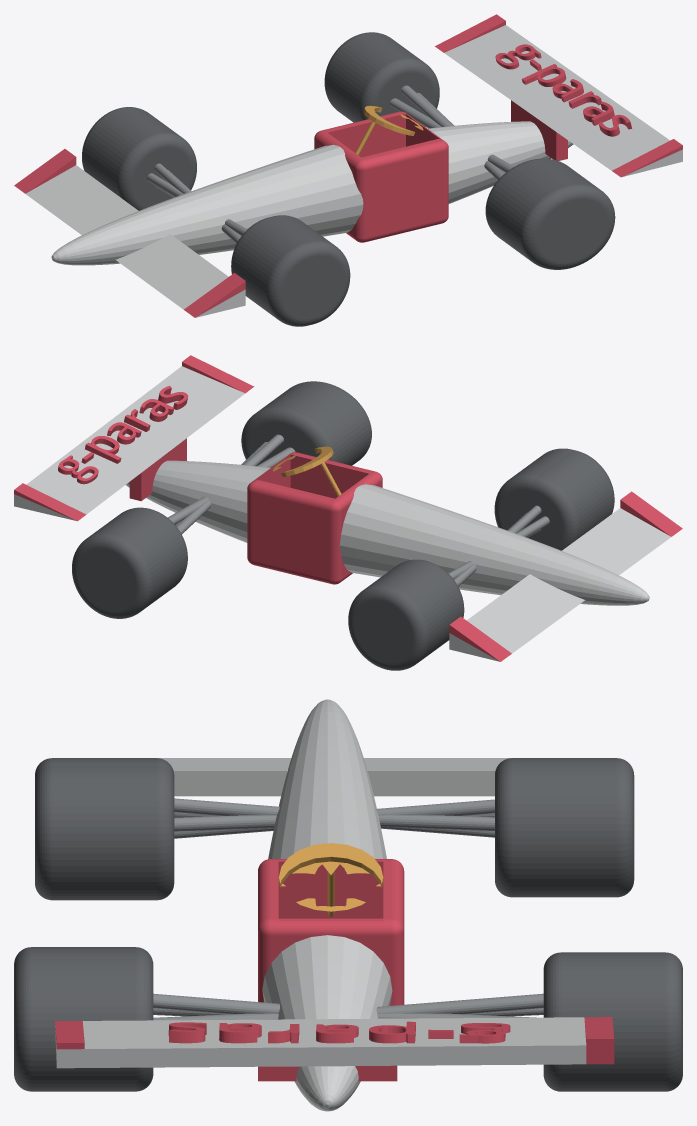
3 views of the same model, one above another, from view 1: azimuth 30°, elevation 25°; view 2: azimuth 150°, elevation 25°; view 3: azimuth 270°, elevation 25° (orthographic). The views are drawn at different scales.
Visible parts, largest first — view 1: Mesh_Mesh_head_geo.001_lambert2SG.001; view 2: Mesh_Mesh_head_geo.001_lambert2SG.001; view 3: Mesh_Mesh_head_geo.001_lambert2SG.001.
Part boxes in pixels (x1=…): Mesh_Mesh_head_geo.001_lambert2SG.001: x1=14, y1=14, x2=682, y2=326; Mesh_Mesh_head_geo.001_lambert2SG.001: x1=14, y1=355, x2=682, y2=670; Mesh_Mesh_head_geo.001_lambert2SG.001: x1=14, y1=699, x2=682, y2=1111.
Bounding box in the file's own units: 139 × 25.99 × 96.
